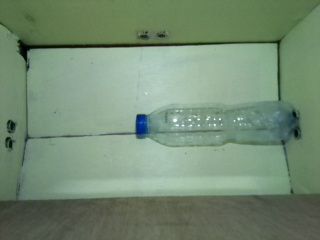bottle: (131, 99, 297, 145)
